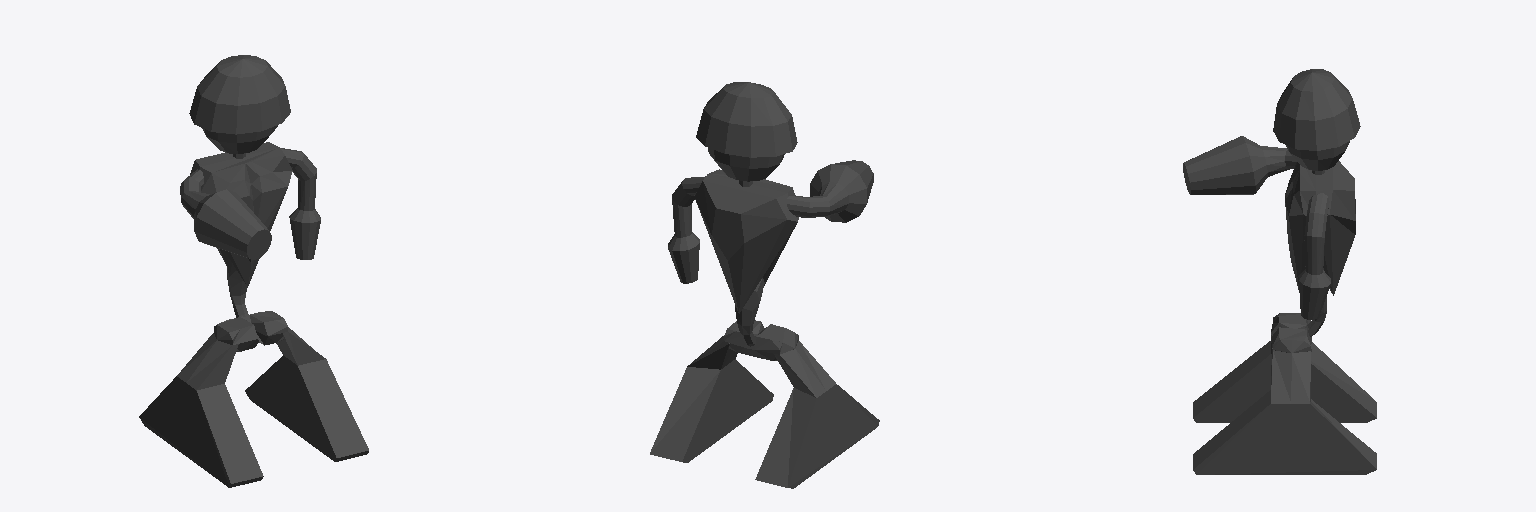
The model's file is Mech-Mk1.obj.
The picture shows the model from 3 angles: view 1: azimuth 30°, elevation 25°; view 2: azimuth 150°, elevation 25°; view 3: azimuth 270°, elevation 25°; orthographic projection.
Visible parts, largest first — view 1: Box001; view 2: Box001; view 3: Box001.
Part boxes in pixels (bbox=[...]): Box001: bbox=[139, 55, 368, 487]; Box001: bbox=[650, 82, 879, 488]; Box001: bbox=[1183, 69, 1376, 474].
Bounding box in the file's own units: 26.77 × 58.78 × 28.06.